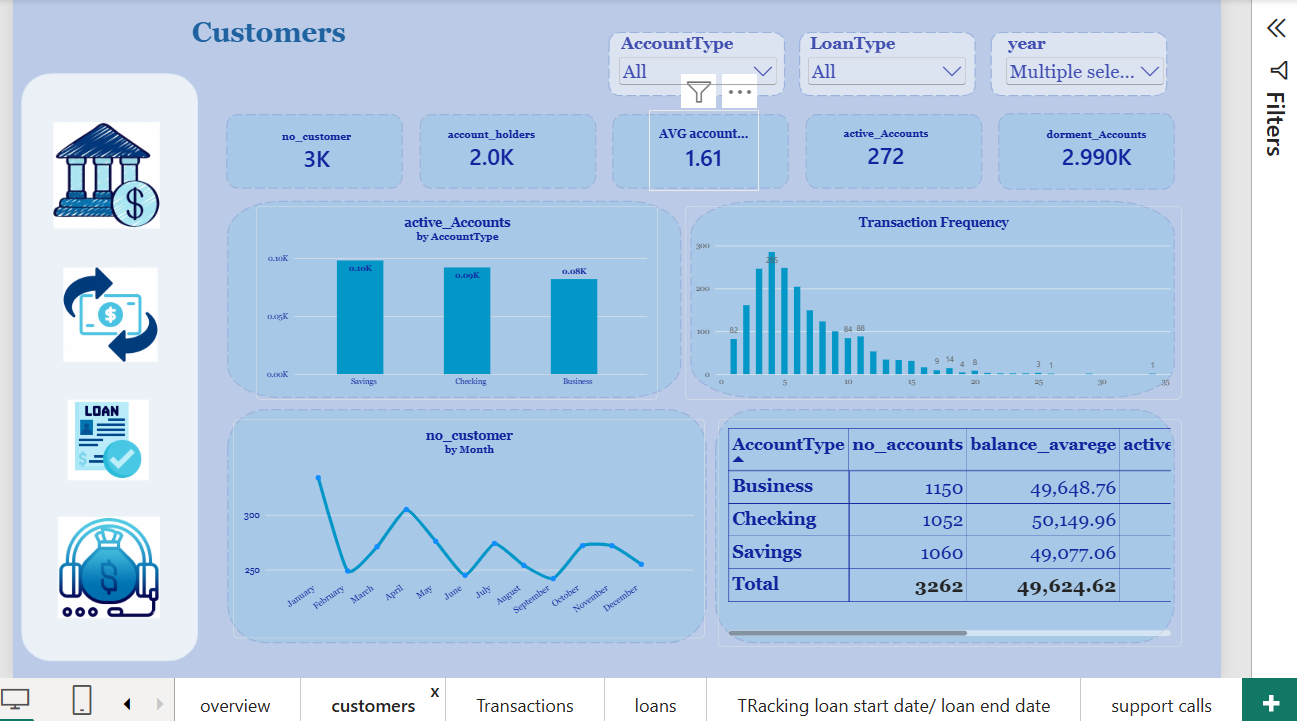

This screenshot's page, from the dashboard's own definition file:
{"tool":"powerbi","page":{"name":"customers","canvas":[1920,1080],"ordinal":1},"visuals":[{"type":"cardVisual","fields":{"Data":["calculation_overiew.no_customer"]},"box":[386.5,195.6,193.3,97.8],"z":0},{"type":"cardVisual","fields":{"Data":["customers.account_holders"]},"box":[651.4,183.7,219.5,114.5],"z":1000},{"type":"cardVisual","fields":{"Data":["customers.active_Accounts"]},"box":[1264.5,190.9,248.1,97.8],"z":2000},{"type":"cardVisual","fields":{"Data":["customers.dorment_Accounts"]},"box":[1610.5,188.5,226.7,105],"z":3000},{"type":"cardVisual","title":"mers","fields":{"Data":["customers.avg_cstomers_with_Clients"]},"box":[1011.6,176.6,174.2,128.8],"z":4000},{"type":"lineClusteredColumnComboChart","fields":{"Category":["Accounts.AccountType"],"Y":["customers.active_Accounts"]},"box":[386.5,329.3,639.4,307.8],"z":5000},{"type":"lineClusteredColumnComboChart","title":"Transaction Frequency","fields":{"Category":["customers.no_transactions"],"Y":["calculation_overiew.no_customer"]},"box":[1068.9,329.3,789.7,307.8],"z":6000},{"type":"lineChart","fields":{"Category":["calender.Date.Variation.Date Hierarchy.Year","calender.Date.Variation.Date Hierarchy.Quarter","calender.Date.Variation.Date Hierarchy.Month","calender.Date.Variation.Date Hierarchy.Day"],"Y":["calculation_overiew.no_customer"]},"box":[350.7,668.1,749.2,348.3],"z":7000},{"type":"pivotTable","fields":{"Rows":["Accounts.AccountType"],"Values":["calculation_overiew.no_accounts","calculation_overiew.balance_avarege","customers.active_Accounts","customers.dorment_Accounts"]},"box":[1121.4,668.1,737.2,362.7],"z":8000},{"type":"image","box":[38.2,195.6,221.9,169.4],"z":9000},{"type":"image","box":[50.1,427.1,210,150],"z":11000},{"type":"image","box":[66.8,637,169.4,128.8],"z":12000},{"type":"image","box":[57.3,823.1,190.9,162.2],"z":13000},{"type":"slicer","fields":{"Values":["calender.year"]},"box":[1574.7,55.7,260.1,85.9],"z":14000},{"type":"slicer","fields":{"Values":["Loans.LoanType"]},"box":[1259.8,55.7,260.1,95.4],"z":15000},{"type":"slicer","fields":{"Values":["Accounts.AccountType"]},"box":[959.1,54.9,260.1,95.4],"z":16000},{"type":"shape","box":[272,0,269.6,105],"z":17000}]}

Visuals, with their boxes on the page's 1920x1080 design canvas (x1, y1, x2, y2). These are canvas units, not pixel positions in the 1297x721 screenshot, which may show the page scaled, cropped or inside an application window:
cardVisual - calculation_overiew.no_customer: bbox=(386, 196, 580, 293)
cardVisual - customers.account_holders: bbox=(651, 184, 871, 298)
cardVisual - customers.active_Accounts: bbox=(1264, 191, 1513, 289)
cardVisual - customers.dorment_Accounts: bbox=(1610, 188, 1837, 294)
"mers" cardVisual: bbox=(1012, 177, 1186, 305)
lineClusteredColumnComboChart - Accounts.AccountType x customers.active_Accounts: bbox=(386, 329, 1026, 637)
"Transaction Frequency" lineClusteredColumnComboChart: bbox=(1069, 329, 1859, 637)
lineChart - calender.Date.Variation.Date Hierarchy.Year x calender.Date.Variation.Date Hierarchy.Quarter: bbox=(351, 668, 1100, 1016)
pivotTable - Accounts.AccountType x calculation_overiew.no_accounts: bbox=(1121, 668, 1859, 1031)
image: bbox=(38, 196, 260, 365)
image: bbox=(50, 427, 260, 577)
image: bbox=(67, 637, 236, 766)
image: bbox=(57, 823, 248, 985)
slicer - calender.year: bbox=(1575, 56, 1835, 142)
slicer - Loans.LoanType: bbox=(1260, 56, 1520, 151)
slicer - Accounts.AccountType: bbox=(959, 55, 1219, 150)
shape: bbox=(272, 0, 542, 105)
